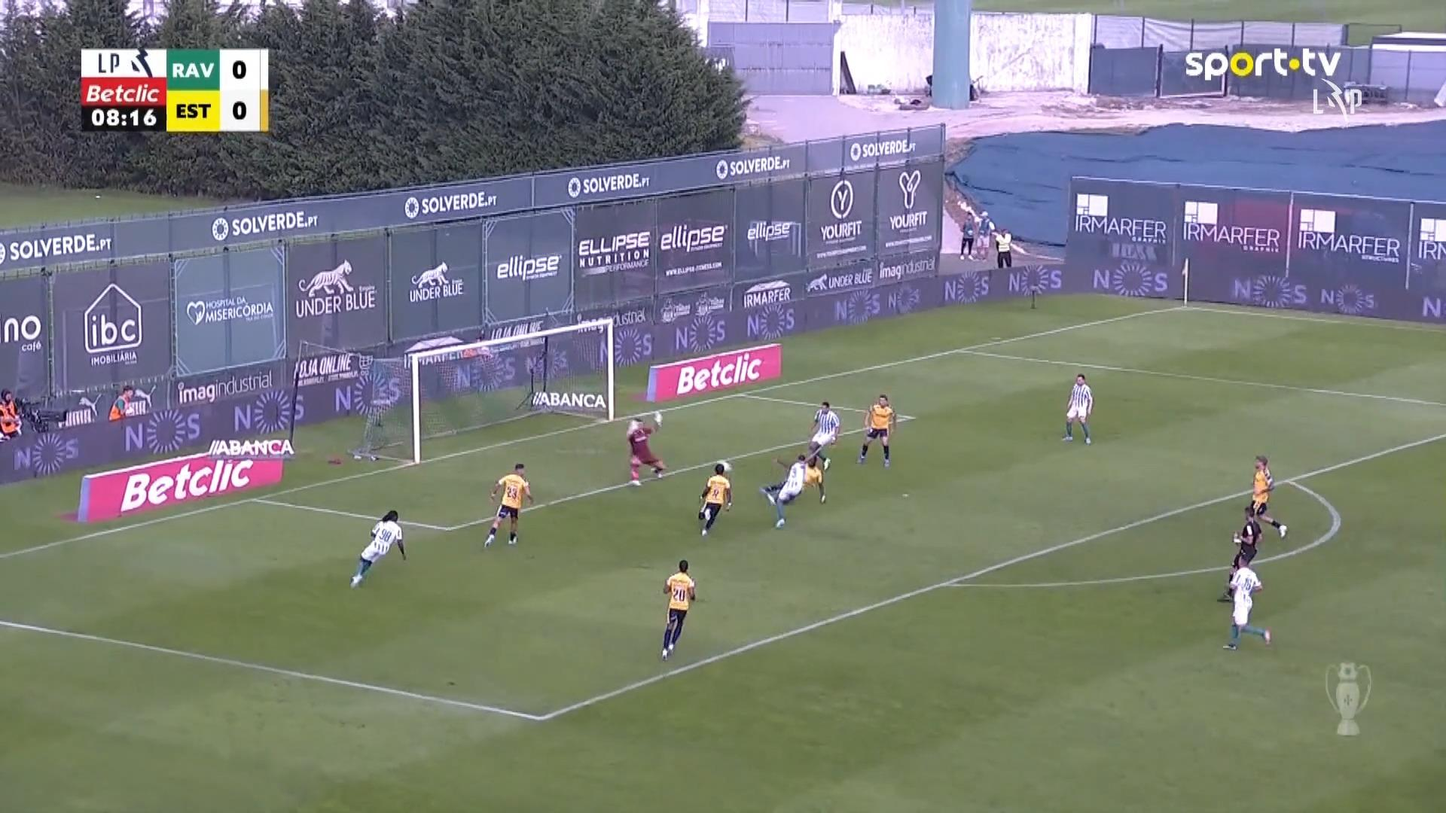ball: (718, 460, 733, 472)
goalkeeper: (625, 410, 666, 485)
player: (349, 509, 407, 589), (1221, 563, 1271, 650), (483, 462, 533, 547), (763, 450, 811, 528), (659, 559, 696, 660), (1249, 453, 1287, 537), (856, 394, 896, 467), (697, 459, 733, 536), (805, 400, 840, 470), (1060, 372, 1094, 444), (1250, 453, 1274, 516), (804, 449, 829, 504)
referee: (1218, 504, 1262, 601)
